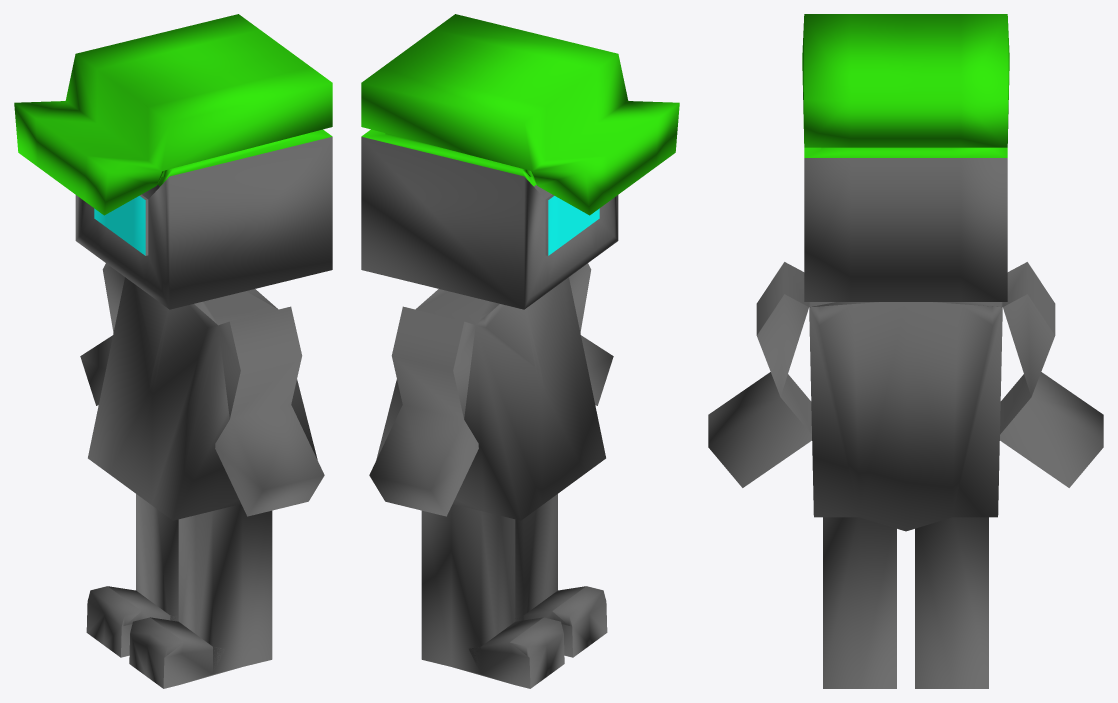
Rendered from dodgeball player.glb.
3 views of the same model, side by side, from view 1: azimuth 30°, elevation 25°; view 2: azimuth 150°, elevation 25°; view 3: azimuth 270°, elevation 25° (orthographic). The views are drawn at different scales.
Parts seen in each view (by area): view 1: Cube; view 2: Cube; view 3: Cube.
Boxes of the visible parts, box(x1,y1,x2,y2) form: Cube: box(14, 14, 332, 688); Cube: box(361, 14, 679, 688); Cube: box(708, 14, 1103, 688).
Size of the model in its own units: 3.03 by 7.4 by 4.28.
